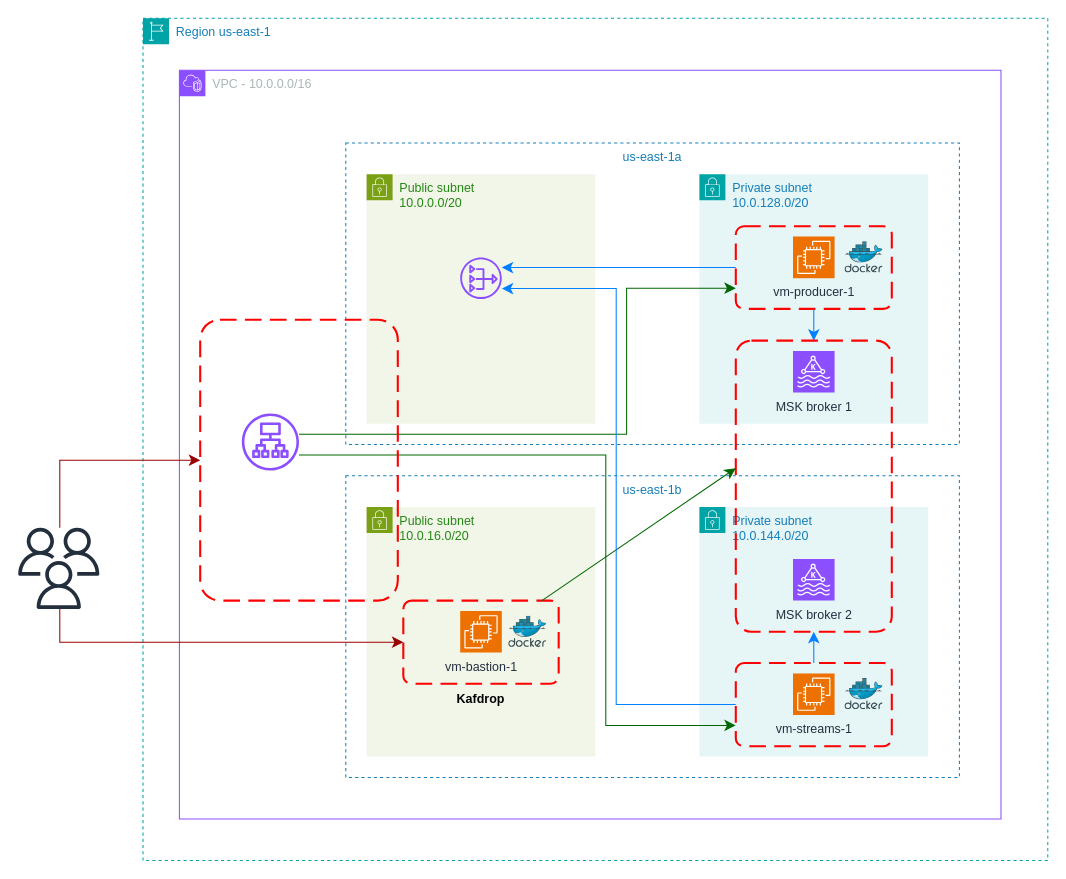
Image size: 1066x879. Some labels were removed from this diagram. The centre of each missing label's shape, as x and y in pixels:
"ALB Balancer" belongs at point (269, 441).
"NAT gateway" belongs at point (480, 277).
